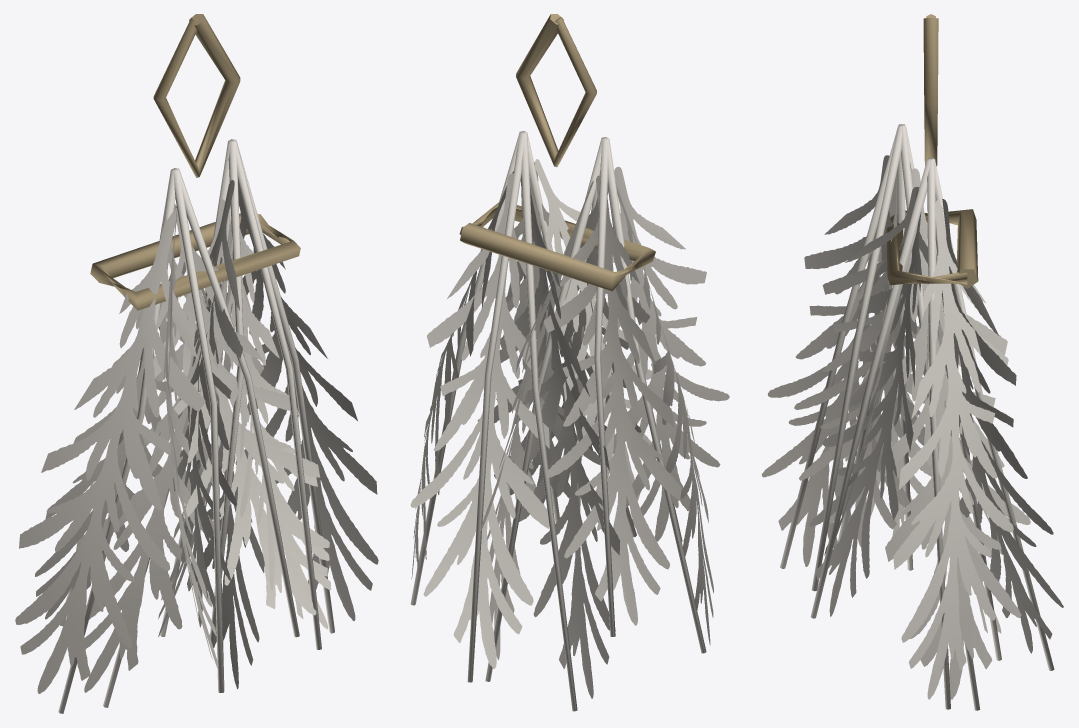
File: CM_BotanicalPlanterKit01_Hanging_Rosemary.fbx
3 views of the same model, side by side, from view 1: azimuth 30°, elevation 25°; view 2: azimuth 150°, elevation 25°; view 3: azimuth 270°, elevation 25° (orthographic). The views are drawn at different scales.
Parts seen in each view (by area): view 1: CM_BotanicalPlanterKit01_Hanging_Rosemary_FoliageDry, CM_BotanicalPlanterKit01_Hanging_Rosemary_Twine; view 2: CM_BotanicalPlanterKit01_Hanging_Rosemary_FoliageDry, CM_BotanicalPlanterKit01_Hanging_Rosemary_Twine; view 3: CM_BotanicalPlanterKit01_Hanging_Rosemary_FoliageDry, CM_BotanicalPlanterKit01_Hanging_Rosemary_Twine.
Boxes of the visible parts, <box> form: CM_BotanicalPlanterKit01_Hanging_Rosemary_FoliageDry: <box>15,139,378,713</box>; CM_BotanicalPlanterKit01_Hanging_Rosemary_Twine: <box>90,14,300,310</box>; CM_BotanicalPlanterKit01_Hanging_Rosemary_FoliageDry: <box>410,131,729,711</box>; CM_BotanicalPlanterKit01_Hanging_Rosemary_Twine: <box>459,14,655,291</box>; CM_BotanicalPlanterKit01_Hanging_Rosemary_FoliageDry: <box>761,124,1063,710</box>; CM_BotanicalPlanterKit01_Hanging_Rosemary_Twine: <box>886,14,978,288</box>.
Size of the model in its own units: 0.2599 by 0.5145 by 0.2106.
